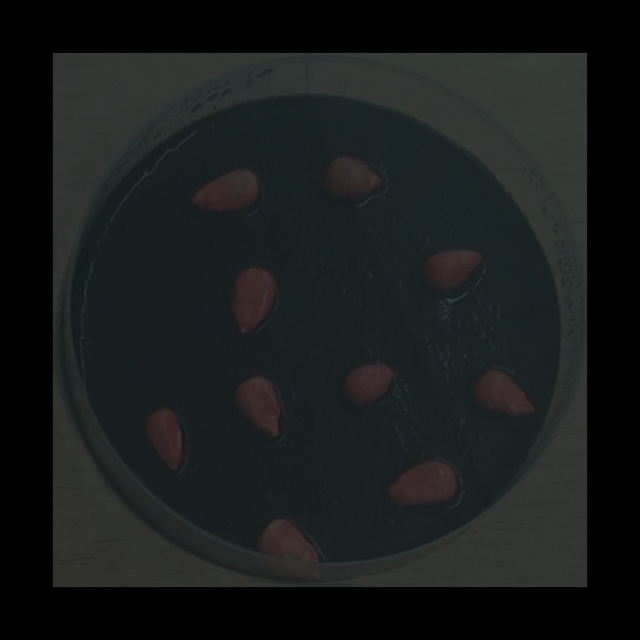Zea mays: (250, 512, 325, 586), (381, 454, 465, 513), (183, 162, 266, 219), (224, 263, 281, 340), (468, 363, 541, 423), (227, 370, 286, 444), (138, 402, 190, 480), (318, 150, 389, 205), (418, 243, 488, 298), (339, 357, 400, 411)
